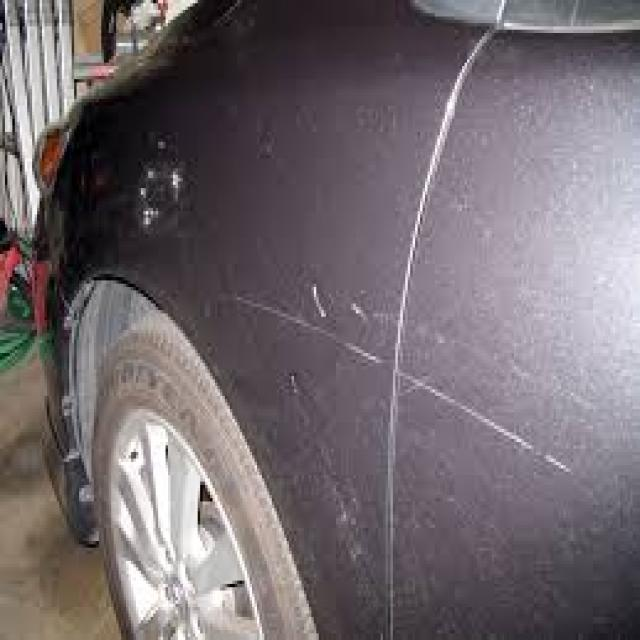minor: (300, 285, 590, 506), (119, 142, 294, 252)
